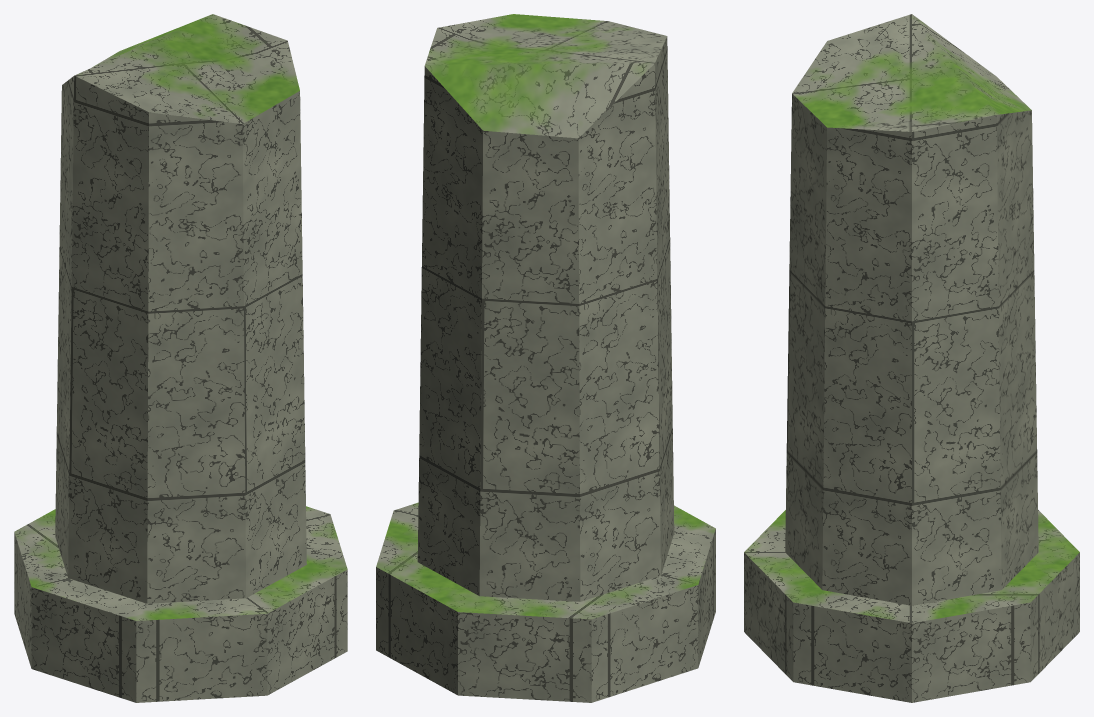
The model's file is Ruin_Pillar.fbx.
3 renders of one model, left to right at view 1: azimuth 30°, elevation 25°; view 2: azimuth 150°, elevation 25°; view 3: azimuth 270°, elevation 25°, orthographic. The views are drawn at different scales.
Parts seen in each view (by area): view 1: Ruin_Pillar.001; view 2: Ruin_Pillar.001; view 3: Ruin_Pillar.001.
Boxes of the visible parts, x1,y1,x2,y2 form: Ruin_Pillar.001: (14, 14, 347, 702); Ruin_Pillar.001: (376, 14, 715, 702); Ruin_Pillar.001: (744, 14, 1079, 702).
Size of the model in its own units: 0.84 by 1.57 by 0.84.
